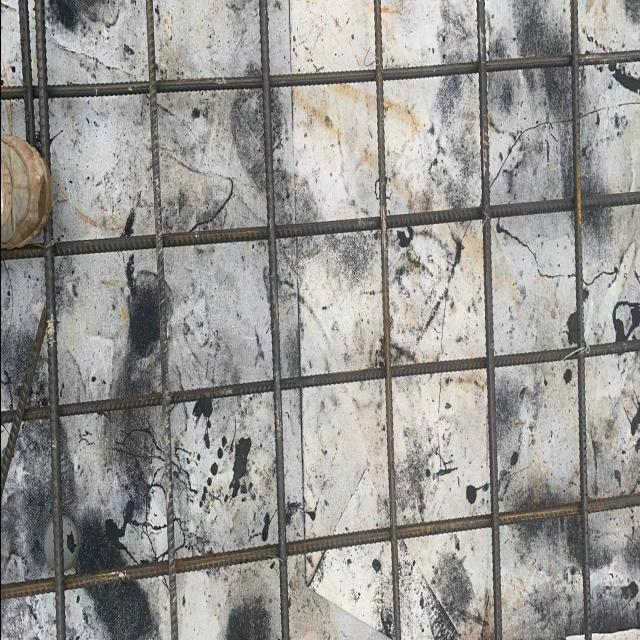ribbed bar: (1, 491, 640, 601), (1, 335, 640, 425), (1, 188, 640, 258), (1, 49, 640, 99), (145, 0, 179, 639), (258, 0, 290, 639), (35, 0, 67, 639), (372, 0, 402, 639), (475, 0, 502, 639), (569, 0, 593, 639), (1, 307, 47, 501), (17, 0, 35, 148)
